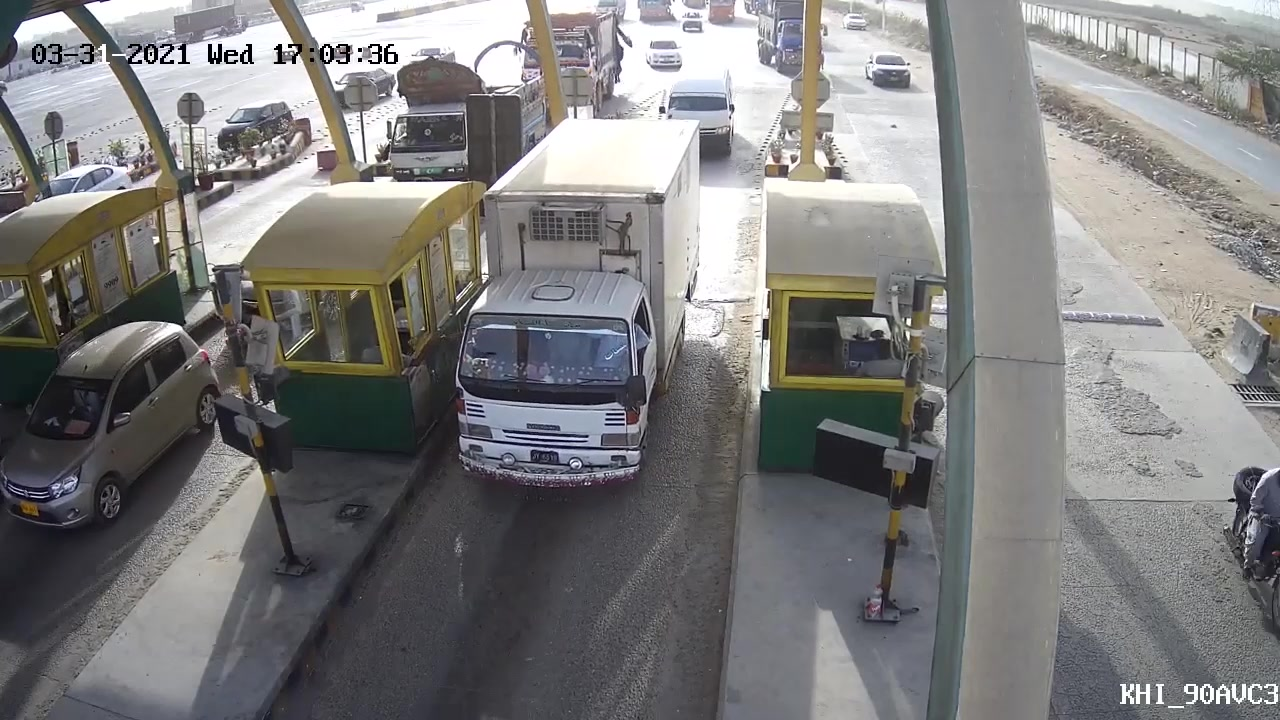F5: (439, 114, 708, 514)
